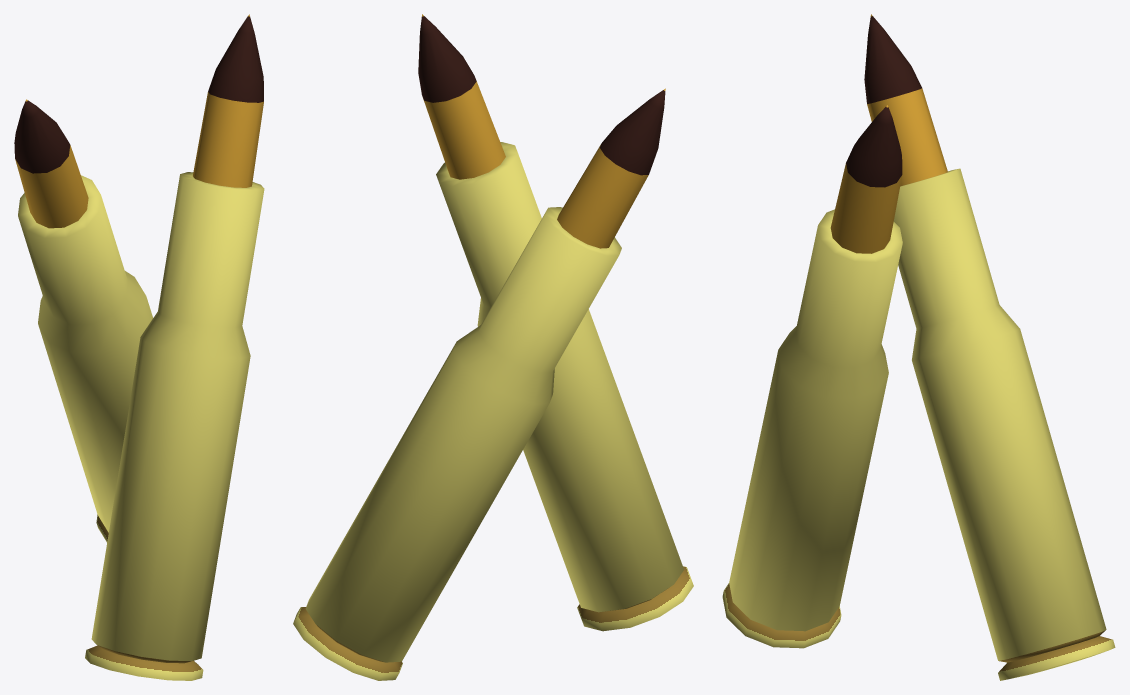
The model's file is Bullet.fbx.
The picture shows the model from 3 angles, left to right: view 1: azimuth 30°, elevation 25°; view 2: azimuth 150°, elevation 25°; view 3: azimuth 270°, elevation 25°; orthographic projection.
Visible parts, largest first — view 1: PickupAPRounds; view 2: PickupAPRounds; view 3: PickupAPRounds.
Part boxes in pixels (left/top/right/bottom): PickupAPRounds: left=14, top=14, right=264, bottom=680; PickupAPRounds: left=293, top=14, right=693, bottom=680; PickupAPRounds: left=722, top=14, right=1115, bottom=680.
Bounding box in the file's own units: 0.6255 × 1.32 × 0.7829.
Materials: 1 (1 with a texture image).
